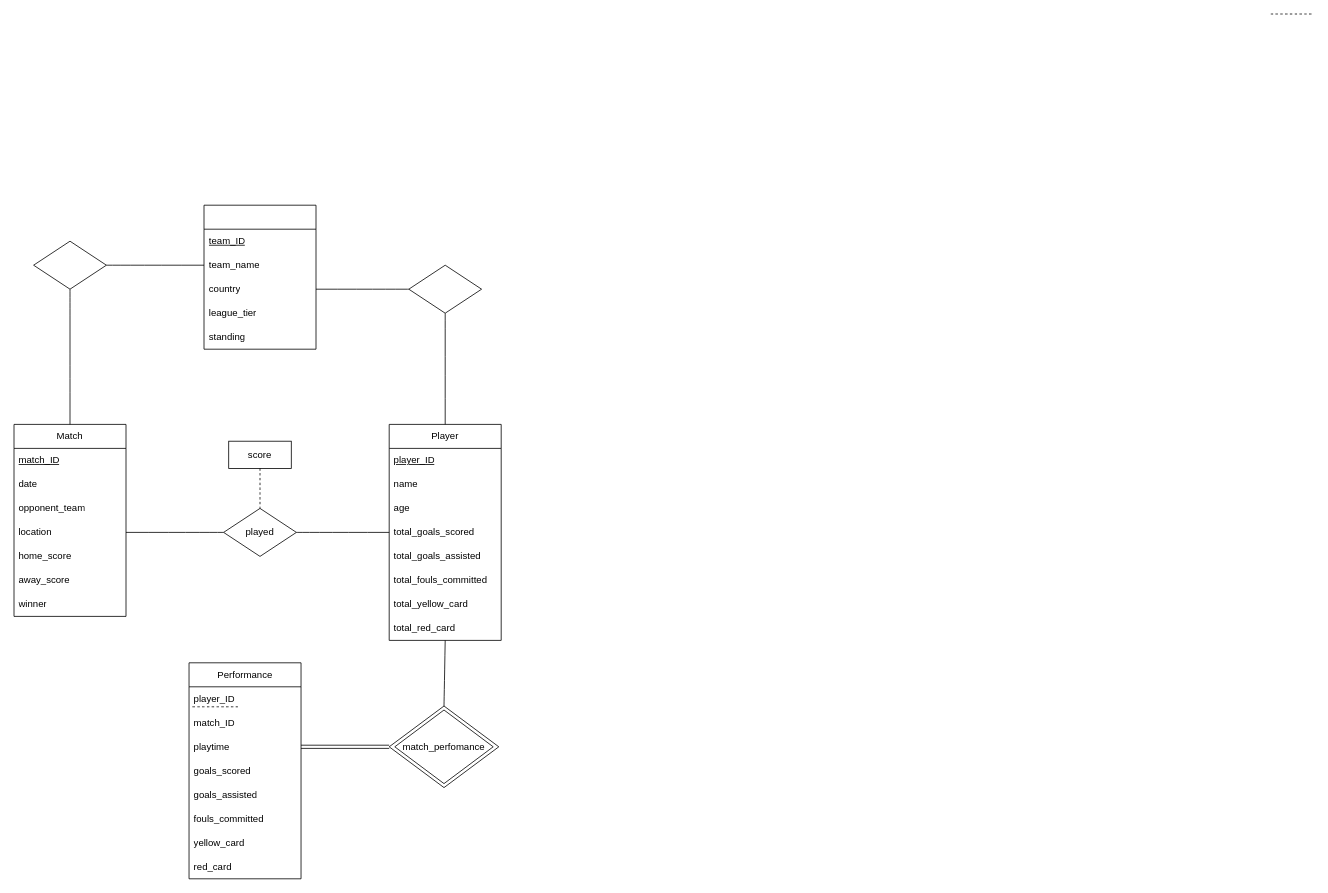
Some shapes in this 1328 by 893 pixel diagram are drawn without their labels. Here are the shapes that lost their labels. From the top down, the box of each, then its label:
(33, 240, 106, 289): involvement
(203, 204, 316, 349): Soccer Team
(408, 264, 482, 313): lineup
